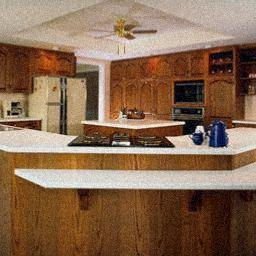Electrodomestico: (66, 128, 175, 150)
